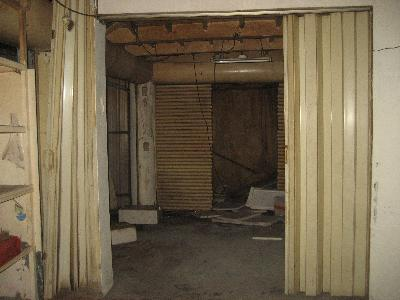styrofoam: (244, 186, 285, 212), (116, 205, 162, 228), (108, 221, 138, 245)
